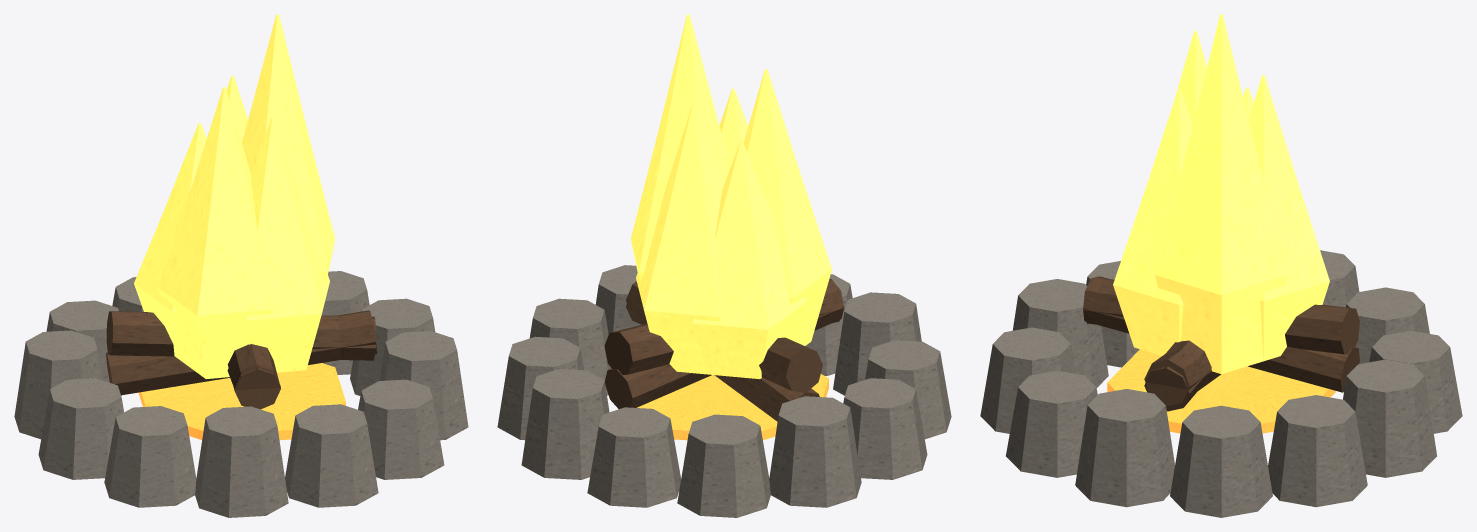
File: showcase_campfire.glb
3 renders of one model, left to right at view 1: azimuth 30°, elevation 25°; view 2: azimuth 150°, elevation 25°; view 3: azimuth 270°, elevation 25°, orthographic. The views are drawn at different scales.
Visible parts, largest first — view 1: campfire_root, flame_node_2, flame_node_1, flame_node_0, flame_node_3, flame_node_4; view 2: campfire_root, flame_node_3, flame_node_4, flame_node_2, flame_node_0, flame_node_1; view 3: campfire_root, flame_node_0, flame_node_1, flame_node_4, flame_node_2.
Boxes of the visible parts, x1=… form: campfire_root: x1=14, y1=271, x2=468, y2=517; flame_node_2: x1=158, y1=87, x2=273, y2=379; flame_node_1: x1=244, y1=117, x2=329, y2=372; flame_node_0: x1=242, y1=14, x2=334, y2=282; flame_node_3: x1=134, y1=123, x2=206, y2=360; flame_node_4: x1=226, y1=75, x2=247, y2=142; campfire_root: x1=497, y1=265, x2=951, y2=517; flame_node_3: x1=692, y1=141, x2=807, y2=379; flame_node_4: x1=636, y1=105, x2=722, y2=374; flame_node_2: x1=743, y1=69, x2=831, y2=345; flame_node_0: x1=631, y1=14, x2=727, y2=280; flame_node_1: x1=719, y1=88, x2=748, y2=173; campfire_root: x1=980, y1=250, x2=1462, y2=517; flame_node_0: x1=1155, y1=14, x2=1287, y2=374; flame_node_1: x1=1113, y1=88, x2=1192, y2=355; flame_node_4: x1=1248, y1=75, x2=1329, y2=360; flame_node_2: x1=1175, y1=30, x2=1206, y2=125.
Bounding box in the file's own units: 1.3 × 1.25 × 1.3.
4 materials, 4 textured.
